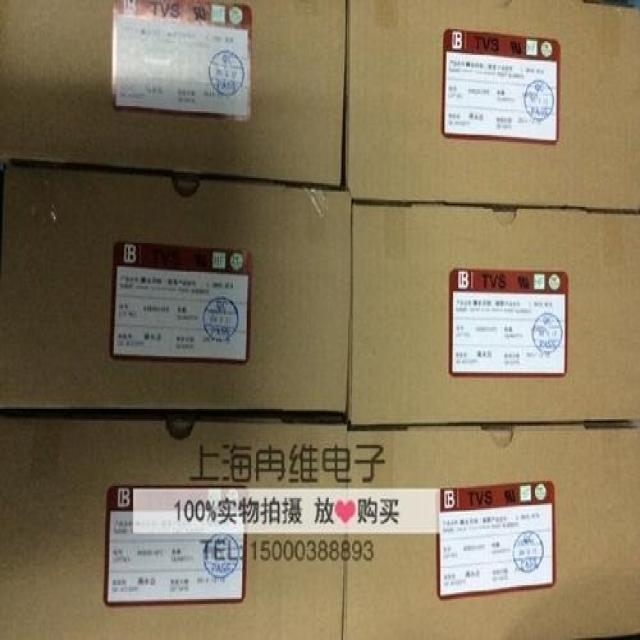box: (0, 159, 351, 416), (349, 200, 639, 426), (0, 1, 347, 189), (343, 424, 638, 638), (345, 1, 639, 210)
